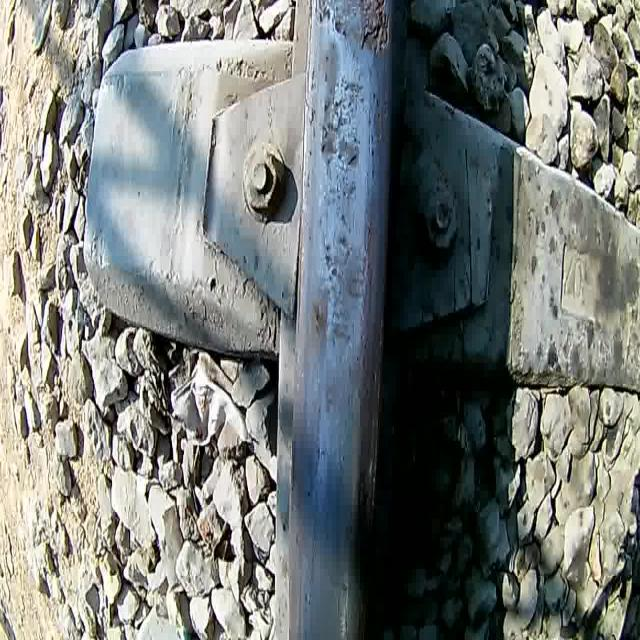Spallings: (358, 0, 392, 55)
Squats: (318, 39, 366, 228), (308, 230, 366, 362), (314, 0, 393, 60), (361, 212, 381, 304), (370, 92, 390, 154)
